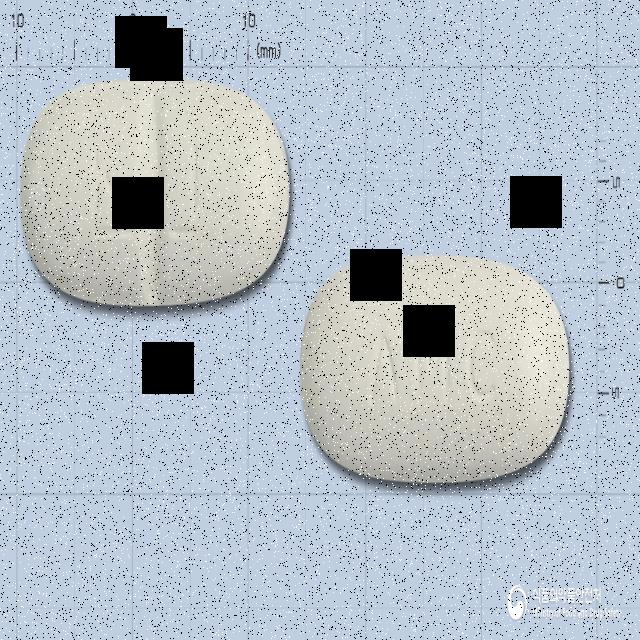Amocla Duo500mg: (21, 74, 292, 312), (299, 256, 571, 484)
